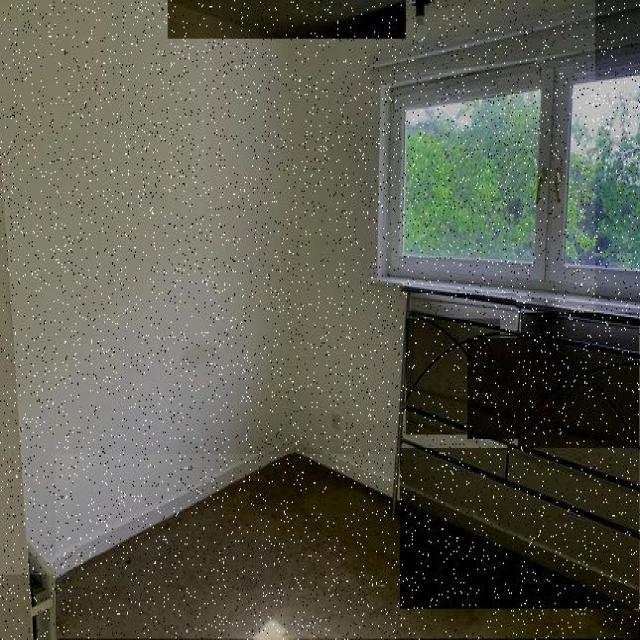Wall: (0, 0, 595, 575), (56, 455, 639, 639), (400, 449, 640, 609), (401, 450, 640, 608), (468, 338, 640, 439), (519, 379, 639, 484), (406, 319, 500, 435), (509, 451, 639, 533), (168, 1, 406, 39), (403, 412, 507, 476), (521, 314, 640, 351), (412, 294, 516, 326)
